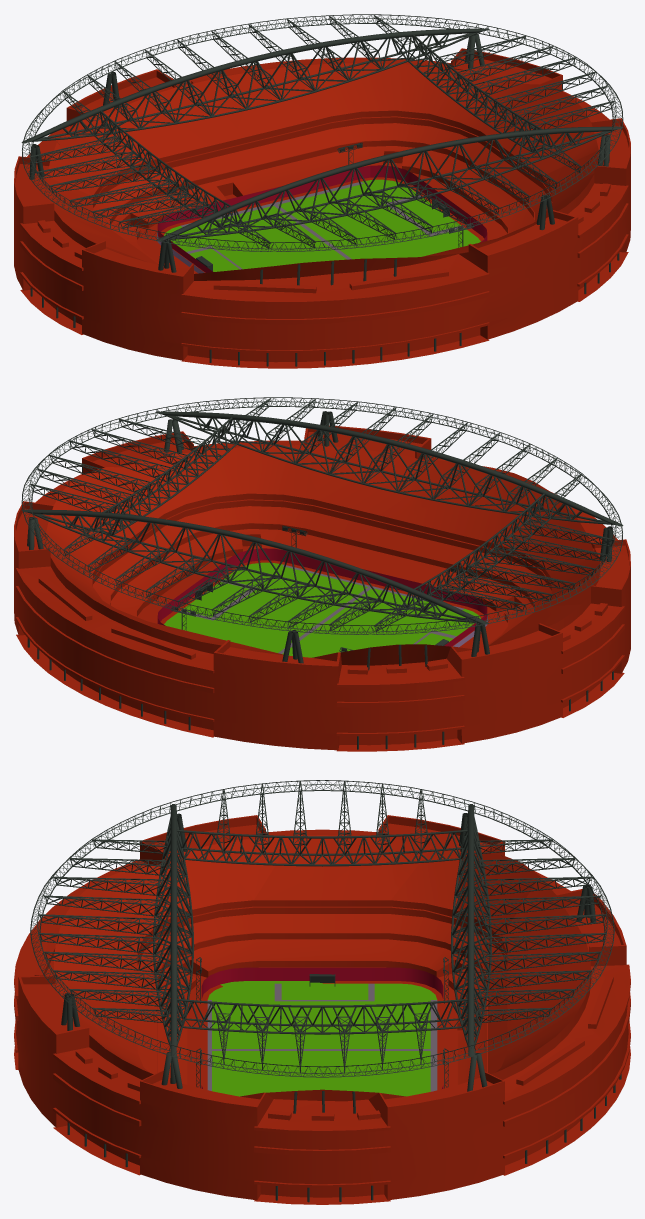
The model's file is stade2.obj.
3 views of the same model, one above another, from view 1: azimuth 30°, elevation 25°; view 2: azimuth 150°, elevation 25°; view 3: azimuth 270°, elevation 25° (orthographic). The views are drawn at different scales.
Visible parts, largest first — view 1: nmodel_10_27_main, nmodel_10_27_pipes2, nmodel_10_27_pipes3, nmodel_10_27_pipes1, nmodel_10_27_main.002, nmodel_10_27_pipes4; view 2: nmodel_10_27_main, nmodel_10_27_pipes2, nmodel_10_27_pipes3, nmodel_10_27_pipes1, nmodel_10_27_main.002, nmodel_10_27_pipes4, nmodel_10_27_lights; view 3: nmodel_10_27_main, nmodel_10_27_pipes3, nmodel_10_27_pipes2, nmodel_10_27_pipes1, nmodel_10_27_main.002, nmodel_10_27_pipes4, nmodel_10_27_lights.
Part boxes in pixels (x1,y1,x2,y2): nmodel_10_27_main: (14,48,630,368); nmodel_10_27_pipes2: (21,28,623,241); nmodel_10_27_pipes3: (30,15,614,248); nmodel_10_27_pipes1: (22,14,623,251); nmodel_10_27_main.002: (157,165,487,272); nmodel_10_27_pipes4: (29,34,619,366); nmodel_10_27_main: (14,425,630,751); nmodel_10_27_pipes2: (21,411,623,624); nmodel_10_27_pipes3: (30,398,614,631); nmodel_10_27_pipes1: (21,397,622,634); nmodel_10_27_main.002: (157,548,487,646); nmodel_10_27_pipes4: (27,411,613,749); nmodel_10_27_lights: (170,525,475,652); nmodel_10_27_main: (14,815,630,1204); nmodel_10_27_pipes3: (38,781,606,1072); nmodel_10_27_pipes2: (153,804,491,1056); nmodel_10_27_pipes1: (30,780,614,1077); nmodel_10_27_main.002: (201,967,443,1088); nmodel_10_27_pipes4: (61,813,621,1202); nmodel_10_27_lights: (196,957,448,1088).
Bounding box in the file's own units: 238 × 59.11 × 206.
